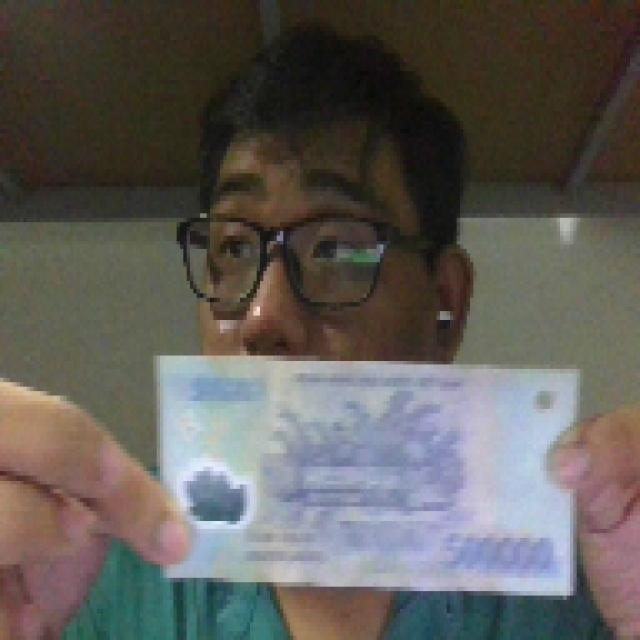500 000 VND: (150, 347, 583, 600)
